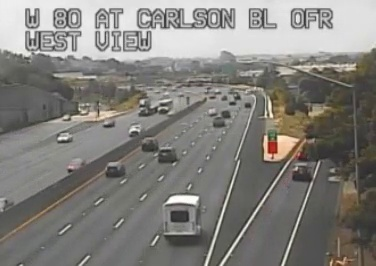bus: (163, 194, 202, 238)
car: (105, 162, 125, 178), (291, 163, 311, 179), (158, 147, 175, 162), (141, 138, 157, 150)
